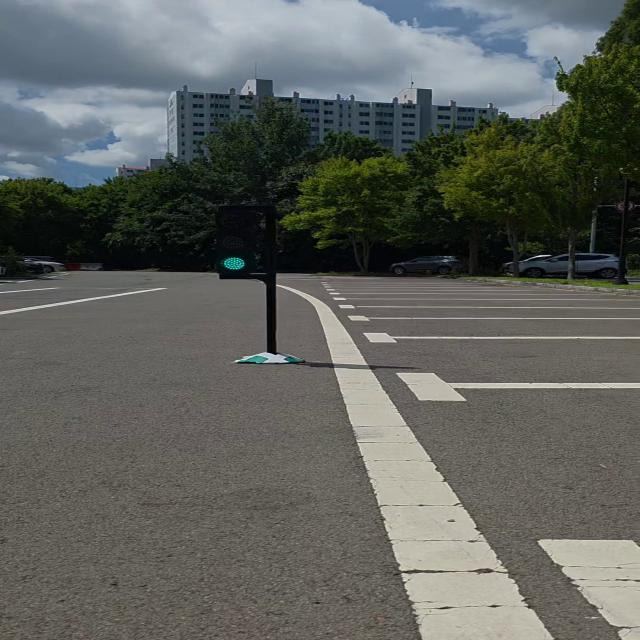green: (209, 205, 270, 279)
